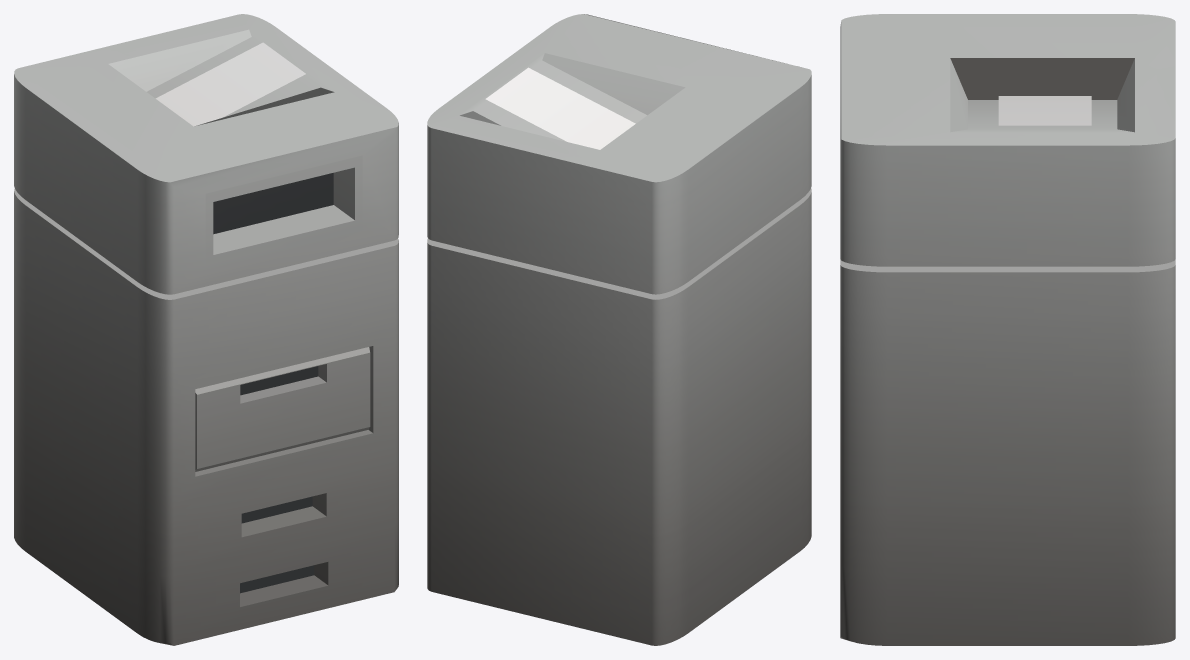
Rendered from printer.fbx.
3 renders of one model, left to right at view 1: azimuth 30°, elevation 25°; view 2: azimuth 150°, elevation 25°; view 3: azimuth 270°, elevation 25°, orthographic. The views are drawn at different scales.
Parts seen in each view (by area): view 1: Printer; view 2: Printer; view 3: Printer.
Boxes of the visible parts, x1,y1,x2,y2 form: Printer: [14, 14, 398, 645]; Printer: [427, 14, 811, 645]; Printer: [840, 14, 1175, 645].
Bounding box in the file's own units: 89.23 × 160 × 96.19.
